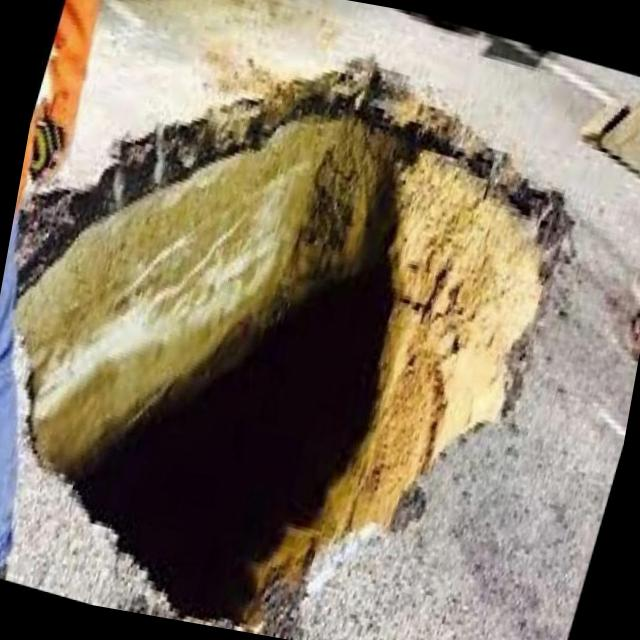Pathole: (15, 53, 571, 639)
